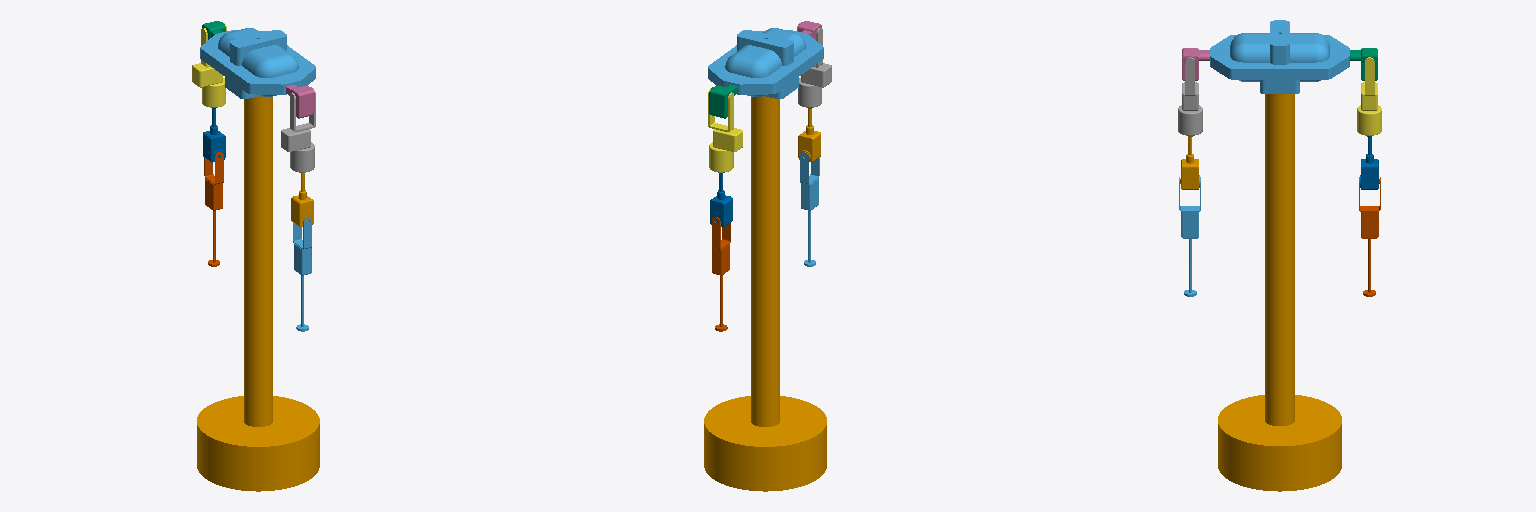
The robot description file, URDF, robot "LiCAS_A1":
<?xml version="1.0" ?>
<!-- =================================================================================== -->
<!-- |    This document was autogenerated by xacro from licasa1.urdf.xacro             | -->
<!-- |    EDITING THIS FILE BY HAND IS NOT RECOMMENDED                                 | -->
<!-- =================================================================================== -->
<!--<robot name="test_robot" xmlns:xacro="http://ros.org/wiki/xacro">-->
<robot name="LiCAS_A1">
  <gazebo>
    <plugin filename="libgazebo_ros_control.so" name="gazebo_ros_controller">
      <robotNamespace>/licasa1</robotNamespace>
    </plugin>
  </gazebo>
  <link name="base_link">
    <inertial>
      <origin xyz="0 0 0.178212"/>
      <mass value="19.049"/>
      <inertia ixx="1.059" ixy="0" ixz="0" iyy="1.059" iyz="0" izz="0.107"/>
    </inertial>
    <visual>
      <origin xyz="0 0 0.85"/>
      <geometry>
        <mesh filename="package://licasa1_description/mesh/Arms_Base.dae" scale=".001 .001 .001"/>
      </geometry>
    </visual>
    <collision>
      <origin xyz="0 0 0.85"/>
      <geometry>
        <mesh filename="package://licasa1_description/mesh/Arms_Base.dae" scale=".001 .001 .001"/>
      </geometry>
    </collision>
  </link>
  <joint name="joint" type="fixed">
    <origin xyz="0 0 0.85"/>
    <parent link="base_link"/>
    <child link="shoulder_pitch_link"/>
  </joint>
  <link name="shoulder_pitch_link">
    <inertial>
      <origin xyz="0 0 0.042"/>
      <!-- 0 0 {0.054-0.012} -->
      <mass value="0.639"/>
      <inertia ixx="3.02e-3" ixy="0" ixz="0" iyy="8.64e-4" iyz="0" izz="3.39e-3"/>
    </inertial>
    <visual>
      <origin xyz="0 0 0.054"/>
      <geometry>
        <mesh filename="package://licasa1_description/mesh/Shoulder_Pitch_Structure.dae" scale=".001 .001 .001"/>
      </geometry>
    </visual>
    <collision>
      <origin xyz="0 0 0.054"/>
      <geometry>
        <mesh filename="package://licasa1_description/mesh/Shoulder_Pitch_Structure.dae" scale=".001 .001 .001"/>
      </geometry>
    </collision>
  </link>
  <!-- LEFT ARM-->
  <joint name="LiCAS_A1_q1_1" type="revolute">
    <origin xyz="0 0.14 0.054"/>
    <parent link="shoulder_pitch_link"/>
    <child link="left_shoulder_roll"/>
    <axis xyz="0 1 0"/>
    <dynamics damping="0.0" friction="0.0"/>
    <limit effort="10.0" lower="-1.5707963267948966" upper="1.5707963267948966" velocity="6"/>
  </joint>
  <link name="left_shoulder_roll">
    <inertial>
      <origin xyz="0 0.0164 -0.00946"/>
      <!--0 {0.04-0.0236} -0.00946-->
      <mass value="0.233"/>
      <inertia ixx="3.68e-4" ixy="-7.57e-6" ixz="5.38e-6" iyy="1.16e-4" iyz="-4.8e-5" izz="3.76e-4"/>
    </inertial>
    <visual>
      <origin xyz="0 0.04 0"/>
      <geometry>
        <mesh filename="package://licasa1_description/mesh/Shoulder_Roll_Structure_Left.dae" scale=".001 .001 .001"/>
      </geometry>
    </visual>
    <collision>
      <origin xyz="0 0.04 0"/>
      <geometry>
        <mesh filename="package://licasa1_description/mesh/Shoulder_Roll_Structure_Left.dae" scale=".001 .001 .001"/>
      </geometry>
    </collision>
  </link>
  <joint name="LiCAS_A1_q1_2" type="revolute">
    <origin xyz="0 0.04 0"/>
    <parent link="left_shoulder_roll"/>
    <child link="left_shoulder_yaw"/>
    <axis xyz="1 0 0"/>
    <dynamics damping="0.0" friction="0.0"/>
    <limit effort="10.0" lower="-0.3490658503988659" upper="1.5707963267948966" velocity="6"/>
  </joint>
  <link name="left_shoulder_yaw">
    <inertial>
      <origin xyz="-0.015 0 -0.1"/>
      <mass value="0.246"/>
      <inertia ixx="3.49e-4" ixy="0" ixz="-3.79e-5" iyy="4.46e-4" iyz="0" izz="1.49e-4"/>
    </inertial>
    <visual>
      <origin xyz="0 0 0"/>
      <geometry>
        <mesh filename="package://licasa1_description/mesh/Assembly_Shoulder_Yaw_Structure.dae" scale=".001 .001 .001"/>
      </geometry>
    </visual>
    <collision>
      <origin xyz="0 0 0"/>
      <geometry>
        <mesh filename="package://licasa1_description/mesh/Assembly_Shoulder_Yaw_Structure.dae" scale=".001 .001 .001"/>
      </geometry>
    </collision>
  </link>
  <joint name="LiCAS_A1_q1_3" type="revolute">
    <origin xyz="0 0 -0.143"/>
    <!--0 0 -0.163+0.02=-0.143-->
    <parent link="left_shoulder_yaw"/>
    <child link="left_elbow_pitch"/>
    <axis xyz="0 0 1"/>
    <dynamics damping="0.0" friction="0.0"/>
    <limit effort="10.0" lower="-1.5707963267948966" upper="1.5707963267948966" velocity="6"/>
  </joint>
  <link name="left_elbow_pitch">
    <inertial>
      <origin xyz="0 0 -0.093"/>
      <!-- 0 0 -0.1395+0.0075+0.039 -->
      <mass value="0.214"/>
      <inertia ixx="4.21e-4" ixy="-7.81e-7" ixz="-4.06e-5" iyy="4.26e-4" iyz="1.8e-5" izz="5.01e-5"/>
    </inertial>
    <visual>
      <origin xyz="0 0 -0.132"/>
      <!-- -0.1395+0.0075 -->
      <geometry>
        <mesh filename="package://licasa1_description/mesh/Elbow_Pitch_Structure_Left_Cut.dae" scale=".001 .001 .001"/>
      </geometry>
    </visual>
    <collision>
      <origin xyz="0 0 -0.132"/>
      <geometry>
        <mesh filename="package://licasa1_description/mesh/Elbow_Pitch_Structure_Left_Cut.dae" scale=".001 .001 .001"/>
      </geometry>
    </collision>
  </link>
  <joint name="LiCAS_A1_q1_4" type="revolute">
    <origin xyz="0 0 -0.132"/>
    <!--0 0 -0.1395+0.0075-->
    <parent link="left_elbow_pitch"/>
    <child link="left_forearm_link"/>
    <axis xyz="0 1 0"/>
    <dynamics damping="0.0" friction="0.0"/>
    <limit effort="10.0" lower="-2.6179938779914944" upper="2.6179938779914944" velocity="6"/>
  </joint>
  <link name="left_forearm_link">
    <inertial>
      <origin xyz="0 0 -0.092"/>
      <!-- 0 0 0-0.092-->
      <mass value="0.106"/>
      <inertia ixx="3.94e-4" ixy="0" ixz="0" iyy="3.75e-4" iyz="-3.5e-6" izz="3.05e-5"/>
    </inertial>
    <visual>
      <origin xyz="0 0 0"/>
      <!-- -0.1395+0.0075 -->
      <geometry>
        <mesh filename="package://licasa1_description/mesh/Forearm_Link_with_Gripper_Servo.dae" scale=".001 .001 .001"/>
      </geometry>
    </visual>
    <collision>
      <origin xyz="0 0 0"/>
      <geometry>
        <mesh filename="package://licasa1_description/mesh/Forearm_Link_with_Gripper_Servo.dae" scale=".001 .001 .001"/>
      </geometry>
    </collision>
  </link>
  <!-- RIGHT ARM-->
  <joint name="LiCAS_A1_q2_1" type="revolute">
    <origin xyz="0 -0.14 0.054"/>
    <parent link="shoulder_pitch_link"/>
    <child link="right_shoulder_roll"/>
    <axis xyz="0 1 0"/>
    <dynamics damping="0.0" friction="0.0"/>
    <limit effort="10.0" lower="-1.5707963267948966" upper="1.5707963267948966" velocity="6"/>
  </joint>
  <link name="right_shoulder_roll">
    <inertial>
      <origin xyz="0 -0.0164 -0.00946"/>
      <!-- 0 -0.04+0.0236 -0.00946 -->
      <mass value="0.233"/>
      <!--<inertia ixx="3.68e-4" ixy="-7.57e-6" ixz="5.38e-6" iyy="1.16e-4" iyz="-4.8e-5" izz="3.76e-4"/>-->
      <inertia ixx="3.68e-4" ixy="7.57e-6" ixz="5.38e-6" iyy="1.16e-4" iyz="4.8e-5" izz="3.76e-4"/>
    </inertial>
    <visual>
      <origin xyz="0 -0.04 0"/>
      <geometry>
        <mesh filename="package://licasa1_description/mesh/Shoulder_Roll_Structure_Right.dae" scale=".001 .001 .001"/>
      </geometry>
    </visual>
    <collision>
      <origin xyz="0 -0.04 0"/>
      <geometry>
        <mesh filename="package://licasa1_description/mesh/Shoulder_Roll_Structure_Right.dae" scale=".001 .001 .001"/>
      </geometry>
    </collision>
  </link>
  <joint name="LiCAS_A1_q2_2" type="revolute">
    <origin xyz="0 -0.04 0"/>
    <parent link="right_shoulder_roll"/>
    <child link="right_shoulder_yaw"/>
    <axis xyz="1 0 0"/>
    <dynamics damping="0.0" friction="0.0"/>
    <limit effort="10.0" lower="-1.5707963267948966" upper="0.3490658503988659" velocity="6"/>
  </joint>
  <link name="right_shoulder_yaw">
    <inertial>
      <origin xyz="-0.015 0 -0.1"/>
      <mass value="0.246"/>
      <inertia ixx="3.49e-4" ixy="0" ixz="-3.79e-5" iyy="4.46e-4" iyz="0" izz="1.49e-4"/>
    </inertial>
    <visual>
      <origin xyz="0 0 0"/>
      <geometry>
        <mesh filename="package://licasa1_description/mesh/Assembly_Shoulder_Yaw_Structure.dae" scale=".001 .001 .001"/>
      </geometry>
    </visual>
    <collision>
      <origin xyz="0 0 0"/>
      <geometry>
        <mesh filename="package://licasa1_description/mesh/Assembly_Shoulder_Yaw_Structure.dae" scale=".001 .001 .001"/>
      </geometry>
    </collision>
  </link>
  <joint name="LiCAS_A1_q2_3" type="revolute">
    <origin xyz="0 0 -0.143"/>
    <!--0 0 -0.163+0.02=-0.143-->
    <parent link="right_shoulder_yaw"/>
    <child link="right_elbow_pitch"/>
    <axis xyz="0 0 1"/>
    <dynamics damping="0.0" friction="0.0"/>
    <limit effort="10.0" lower="-1.5707963267948966" upper="1.5707963267948966" velocity="6"/>
  </joint>
  <link name="right_elbow_pitch">
    <inertial>
      <origin xyz="0 0 -0.093"/>
      <!-- 0 0 -0.1395+0.0075+0.039 -->
      <mass value="0.214"/>
      <inertia ixx="4.21e-4" ixy="7.81e-7" ixz="-4.06e-5" iyy="4.26e-4" iyz="-1.8e-5" izz="5.01e-5"/>
    </inertial>
    <visual>
      <origin xyz="0 0 -0.132"/>
      <!-- -0.1395+0.0075 -->
      <geometry>
        <mesh filename="package://licasa1_description/mesh/Elbow_Pitch_Structure_Right_Cut.dae" scale=".001 .001 .001"/>
      </geometry>
    </visual>
    <collision>
      <origin xyz="0 0 -0.132"/>
      <geometry>
        <mesh filename="package://licasa1_description/mesh/Elbow_Pitch_Structure_Right_Cut.dae" scale=".001 .001 .001"/>
      </geometry>
    </collision>
  </link>
  <joint name="LiCAS_A1_q2_4" type="revolute">
    <origin xyz="0 0 -0.132"/>
    <!--0 0 -0.1395+0.0075-->
    <parent link="right_elbow_pitch"/>
    <child link="right_forearm_link"/>
    <axis xyz="0 1 0"/>
    <dynamics damping="0.0" friction="0.0"/>
    <limit effort="10.0" lower="-2.6179938779914944" upper="2.6179938779914944" velocity="6"/>
  </joint>
  <link name="right_forearm_link">
    <inertial>
      <origin xyz="0 0 -0.092"/>
      <!-- 0 0 0-0.092-->
      <mass value="0.106"/>
      <inertia ixx="3.94e-4" ixy="0" ixz="0" iyy="3.75e-4" iyz="3.5e-6" izz="3.05e-5"/>
    </inertial>
    <visual>
      <origin xyz="0 0 0"/>
      <!-- -0.1395+0.0075 -->
      <geometry>
        <mesh filename="package://licasa1_description/mesh/Forearm_Link_with_Gripper_Servo.dae" scale=".001 .001 .001"/>
      </geometry>
    </visual>
    <collision>
      <origin xyz="0 0 0"/>
      <geometry>
        <mesh filename="package://licasa1_description/mesh/Forearm_Link_with_Gripper_Servo.dae" scale=".001 .001 .001"/>
      </geometry>
    </collision>
  </link>
  <!-- LEFT ARM-->
  <transmission name="LiCAS_A1_leftarm_tran_1">
    <type>transmission_interface/SimpleTransmission</type>
    <joint name="LiCAS_A1_q1_1">
      <hardwareInterface>hardware_interface/EffortJointInterface</hardwareInterface>
    </joint>
    <actuator name="LiCAS_A1_leftarm_motor_1">
      <hardwareInterface>hardware_interface/EffortJointInterface</hardwareInterface>
      <mechanicalReduction>1</mechanicalReduction>
    </actuator>
  </transmission>
  <transmission name="LiCAS_A1_leftarm_tran_2">
    <type>transmission_interface/SimpleTransmission</type>
    <joint name="LiCAS_A1_q1_2">
      <hardwareInterface>hardware_interface/EffortJointInterface</hardwareInterface>
    </joint>
    <actuator name="LiCAS_A1_leftarm_motor_2">
      <hardwareInterface>hardware_interface/EffortJointInterface</hardwareInterface>
      <mechanicalReduction>1</mechanicalReduction>
    </actuator>
  </transmission>
  <transmission name="LiCAS_A1_leftarm_tran_3">
    <type>transmission_interface/SimpleTransmission</type>
    <joint name="LiCAS_A1_q1_3">
      <hardwareInterface>hardware_interface/EffortJointInterface</hardwareInterface>
    </joint>
    <actuator name="LiCAS_A1_leftarm_motor_3">
      <hardwareInterface>hardware_interface/EffortJointInterface</hardwareInterface>
      <mechanicalReduction>1</mechanicalReduction>
    </actuator>
  </transmission>
  <transmission name="LiCAS_A1_leftarm_tran_4">
    <type>transmission_interface/SimpleTransmission</type>
    <joint name="LiCAS_A1_q1_4">
      <hardwareInterface>hardware_interface/EffortJointInterface</hardwareInterface>
    </joint>
    <actuator name="LiCAS_A1_leftarm_motor_4">
      <hardwareInterface>hardware_interface/EffortJointInterface</hardwareInterface>
      <mechanicalReduction>1</mechanicalReduction>
    </actuator>
  </transmission>
  <!-- RIGHT ARM-->
  <transmission name="LiCAS_A1_rightarm_tran_1">
    <type>transmission_interface/SimpleTransmission</type>
    <joint name="LiCAS_A1_q2_1">
      <hardwareInterface>hardware_interface/EffortJointInterface</hardwareInterface>
    </joint>
    <actuator name="LiCAS_A1_rightarm_motor_1">
      <hardwareInterface>hardware_interface/EffortJointInterface</hardwareInterface>
      <mechanicalReduction>1</mechanicalReduction>
    </actuator>
  </transmission>
  <transmission name="LiCAS_A1_rightarm_tran_2">
    <type>transmission_interface/SimpleTransmission</type>
    <joint name="LiCAS_A1_q2_2">
      <hardwareInterface>hardware_interface/EffortJointInterface</hardwareInterface>
    </joint>
    <actuator name="LiCAS_A1_rightarm_motor_2">
      <hardwareInterface>hardware_interface/EffortJointInterface</hardwareInterface>
      <mechanicalReduction>1</mechanicalReduction>
    </actuator>
  </transmission>
  <transmission name="LiCAS_A1_rightarm_tran_3">
    <type>transmission_interface/SimpleTransmission</type>
    <joint name="LiCAS_A1_q2_3">
      <hardwareInterface>hardware_interface/EffortJointInterface</hardwareInterface>
    </joint>
    <actuator name="LiCAS_A1_rightarm_motor_3">
      <hardwareInterface>hardware_interface/EffortJointInterface</hardwareInterface>
      <mechanicalReduction>1</mechanicalReduction>
    </actuator>
  </transmission>
  <transmission name="LiCAS_A1_rightarm_tran_4">
    <type>transmission_interface/SimpleTransmission</type>
    <joint name="LiCAS_A1_q2_4">
      <hardwareInterface>hardware_interface/EffortJointInterface</hardwareInterface>
    </joint>
    <actuator name="LiCAS_A1_rightarm_motor_4">
      <hardwareInterface>hardware_interface/EffortJointInterface</hardwareInterface>
      <mechanicalReduction>1</mechanicalReduction>
    </actuator>
  </transmission>
</robot>

--- Facts derived from the render (not from the file) ---
The picture shows the robot from 3 angles, left to right: view 1: azimuth 30°, elevation 25°; view 2: azimuth 150°, elevation 25°; view 3: azimuth 270°, elevation 25°; orthographic projection.
Model LiCAS_A1 with 10 links and 9 joints (8 revolute, 1 fixed), rooted at base_link, posed every joint at zero.
Visible links, largest first — view 1: base_link, shoulder_pitch_link, right_shoulder_yaw, left_shoulder_yaw, left_forearm_link, right_forearm_link, right_elbow_pitch, left_elbow_pitch, right_shoulder_roll; view 2: base_link, shoulder_pitch_link, left_shoulder_yaw, right_shoulder_yaw, right_forearm_link, left_forearm_link, left_elbow_pitch, right_elbow_pitch, left_shoulder_roll; view 3: base_link, shoulder_pitch_link, left_shoulder_yaw, right_shoulder_yaw, left_forearm_link, right_forearm_link, left_elbow_pitch, right_elbow_pitch.
Link boxes in pixels (<box>): base_link: <box>197,96,319,491</box>; shoulder_pitch_link: <box>200,28,315,98</box>; right_shoulder_yaw: <box>281,88,315,172</box>; left_shoulder_yaw: <box>192,23,226,107</box>; left_forearm_link: <box>204,152,223,266</box>; right_forearm_link: <box>293,217,311,331</box>; right_elbow_pitch: <box>291,172,313,226</box>; left_elbow_pitch: <box>203,108,225,162</box>; right_shoulder_roll: <box>286,84,314,118</box>; base_link: <box>704,96,826,491</box>; shoulder_pitch_link: <box>708,28,823,98</box>; left_shoulder_yaw: <box>708,88,742,172</box>; right_shoulder_yaw: <box>797,23,831,107</box>; right_forearm_link: <box>800,152,819,266</box>; left_forearm_link: <box>712,217,730,331</box>; left_elbow_pitch: <box>710,172,732,226</box>; right_elbow_pitch: <box>798,108,820,162</box>; left_shoulder_roll: <box>709,84,737,118</box>; base_link: <box>1218,94,1341,491</box>; shoulder_pitch_link: <box>1210,20,1349,93</box>; left_shoulder_yaw: <box>1357,57,1381,135</box>; right_shoulder_yaw: <box>1178,57,1202,135</box>; left_forearm_link: <box>1359,177,1380,296</box>; right_forearm_link: <box>1179,177,1200,296</box>; left_elbow_pitch: <box>1360,136,1379,189</box>; right_elbow_pitch: <box>1180,136,1199,189</box>.
Bounding box of the posed robot: 0.25 × 0.41 × 0.958 m (x, y, z).
Meshes: 8 distinct files referenced, 10 mesh visuals loaded (8 Collada DAE).
